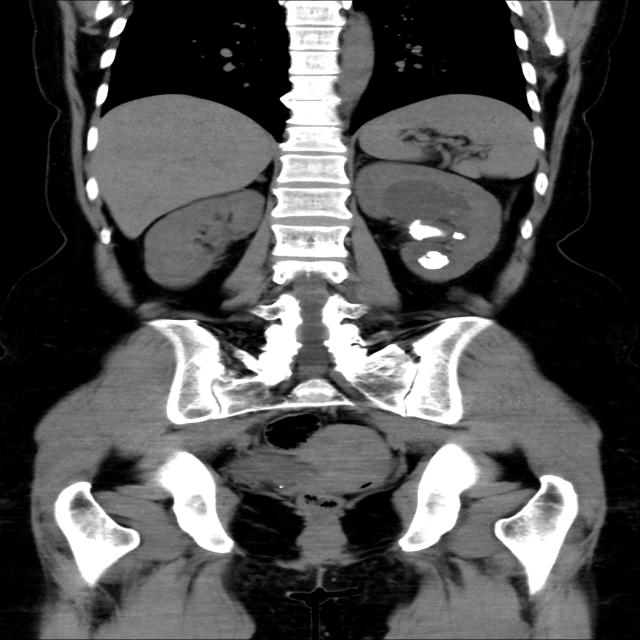kidneystone: (408, 220, 442, 240), (418, 251, 449, 269), (453, 232, 466, 240)
